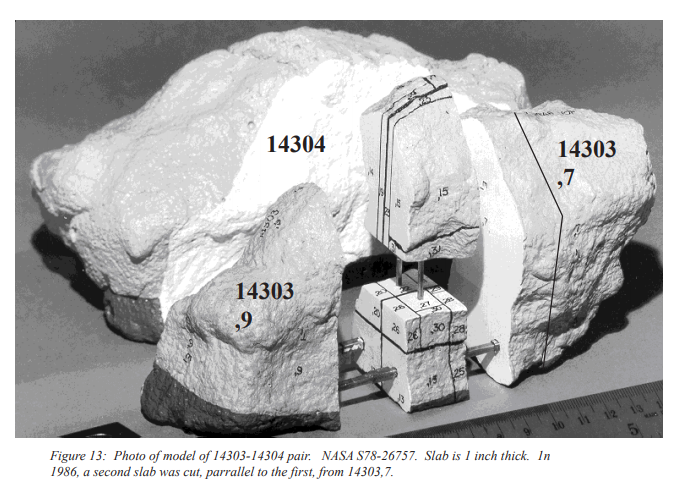Breccia: (32, 62, 354, 430), (219, 41, 596, 246), (481, 117, 661, 375)
